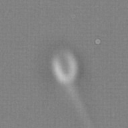normal: (59, 81, 101, 128)
